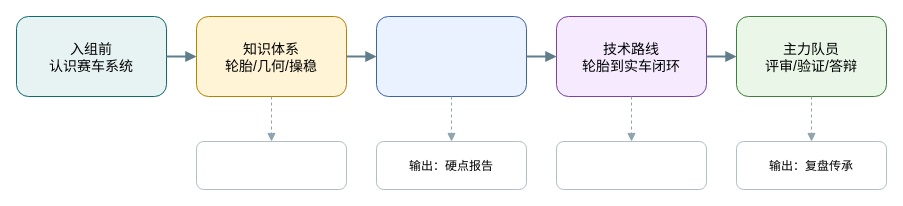
The diagram is 903 pixels wide and 206 high, and some of its shapes have lost their labels. Here are the shapes that lost their labels. From the top down, the centre of each, then its label:
At point 451,56: "软件入门 CAD/Adams/FEA".
At point 271,165: "输出：术语表".
At point 631,165: "输出：设计档案".
